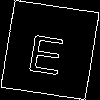E: (24, 25, 69, 75)
